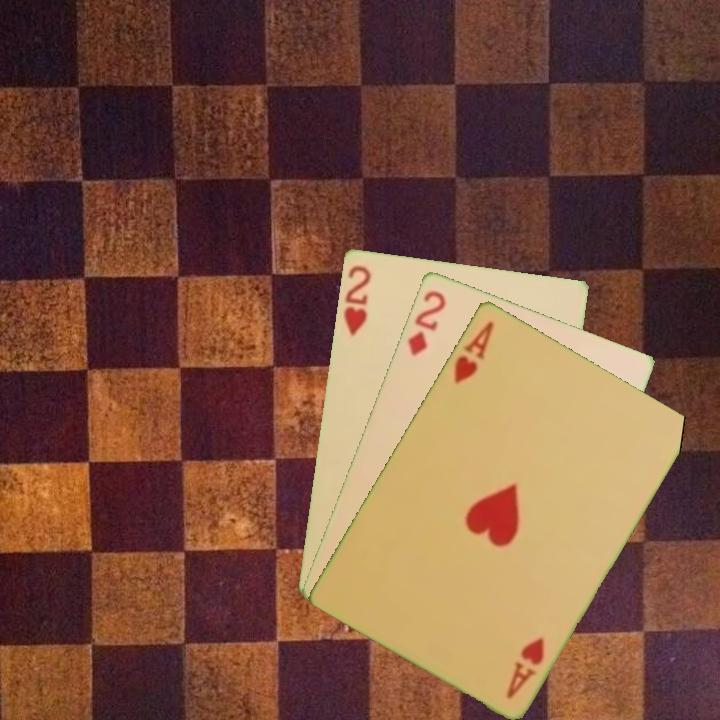2d: (404, 286, 449, 358)
2h: (339, 261, 374, 338)
Ah: (450, 317, 497, 387), (502, 632, 547, 701)
